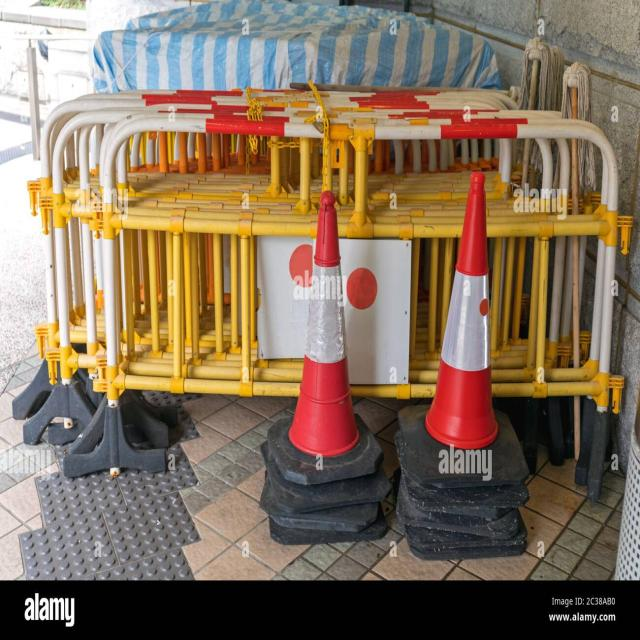cone: (17, 80, 625, 497)
